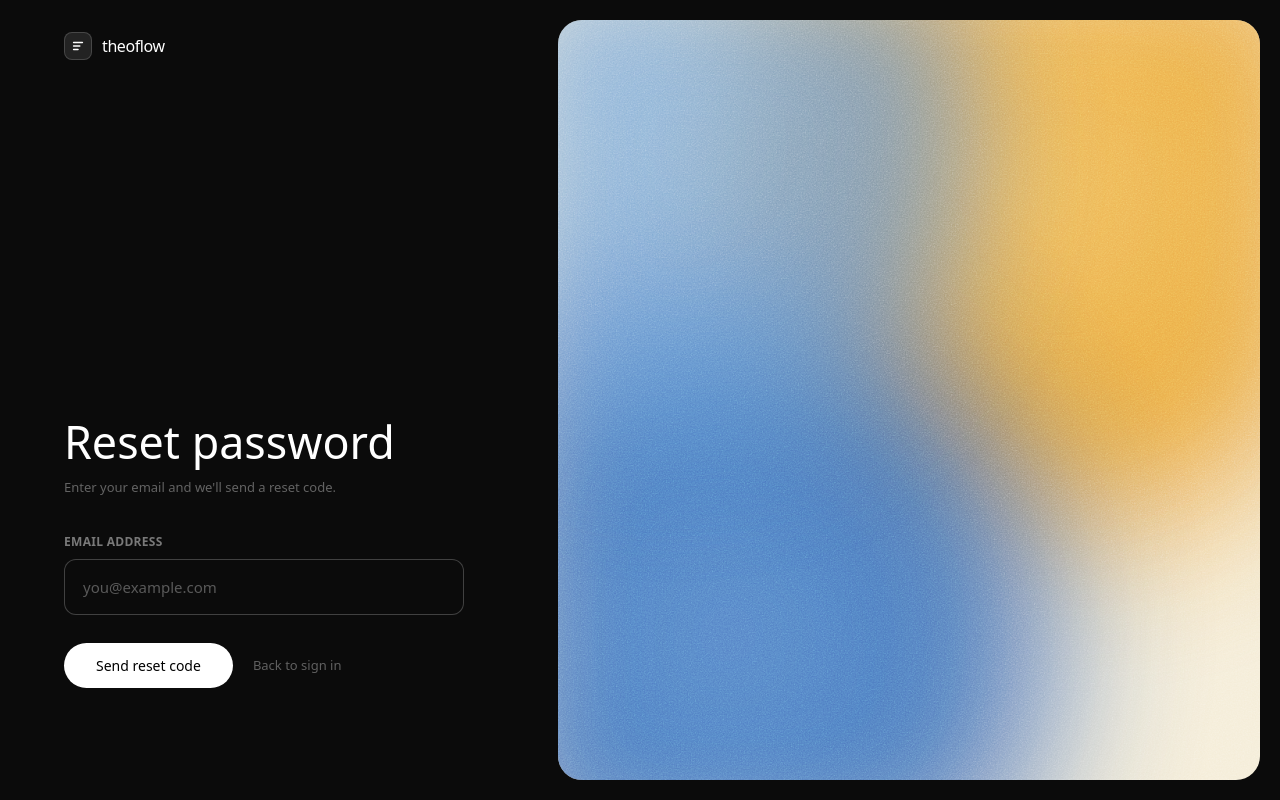
Test: ForgotPasswordPage › Phase 1 — Email entry › advances to Phase 2 when Cognito sends the code
This screenshot has width=1280, height=800.
Step 1. Type "user@example.com" into the field with placeholder "you@example.com" → point(264, 587), box x1=64 y1=559 x2=464 y2=615
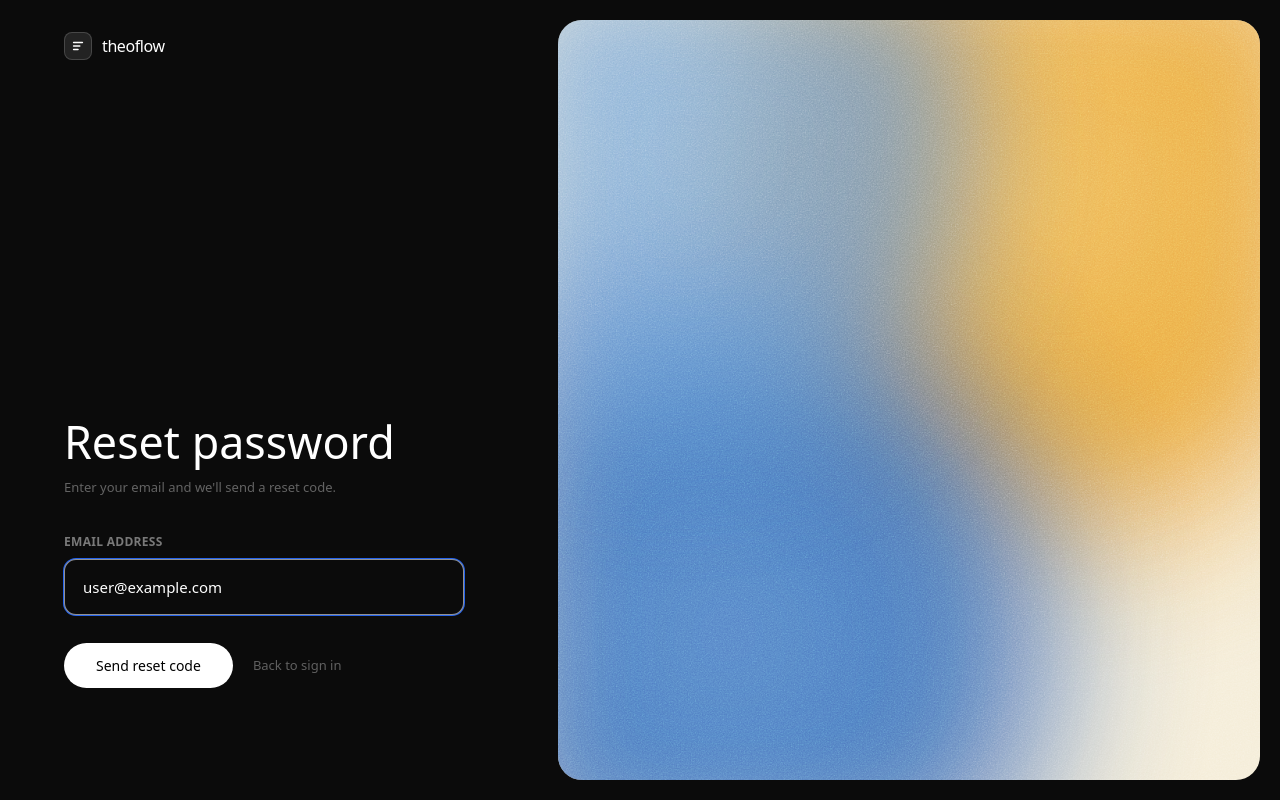
Step 2. Click the button "Send reset code" → point(148, 666), box x1=64 y1=643 x2=233 y2=688
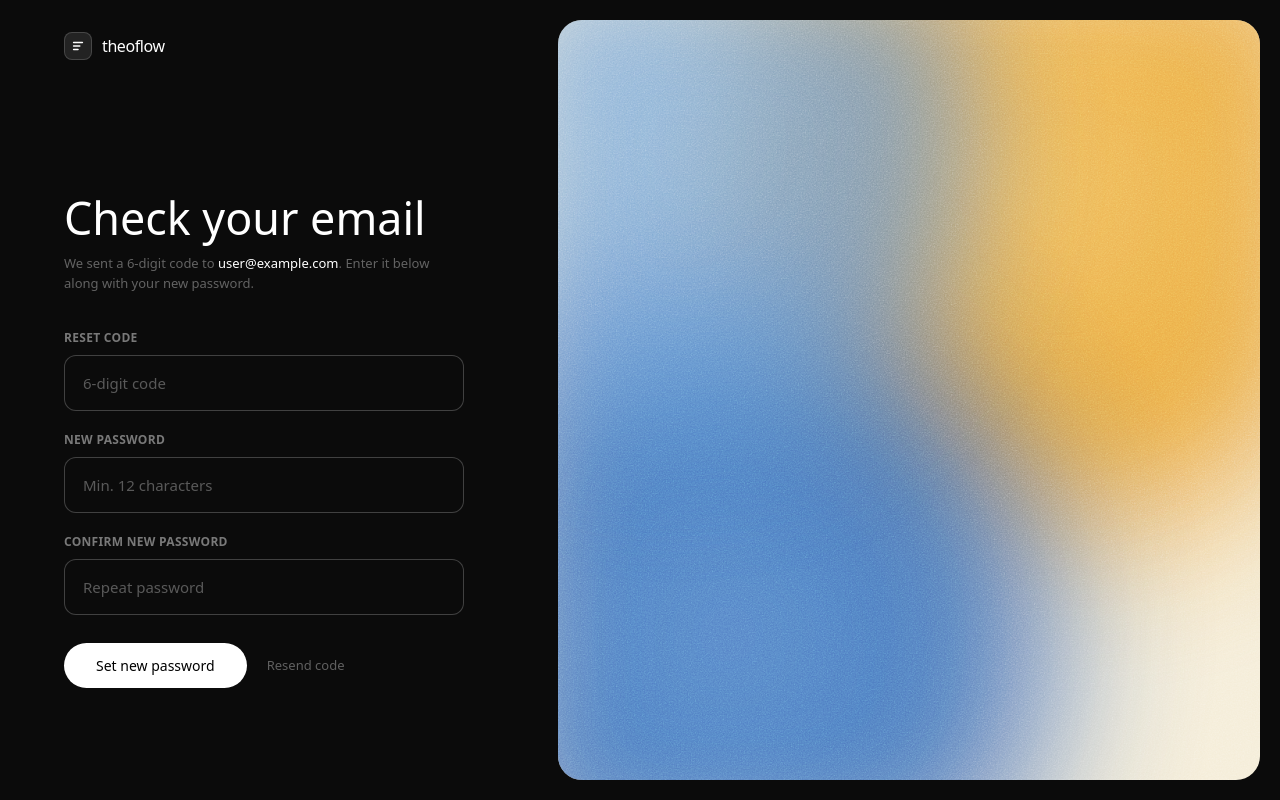
Now the heading "Check your email" is shown, box x1=64 y1=190 x2=464 y2=246
